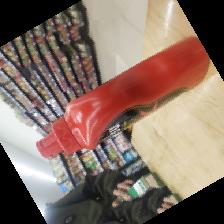Chinsu: (35, 34, 211, 163)
